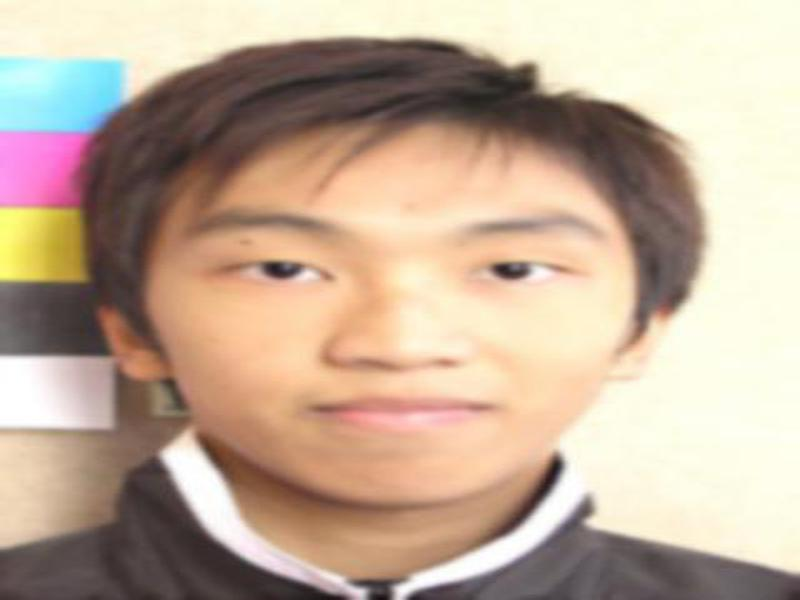without_mask: (160, 140, 634, 502)
